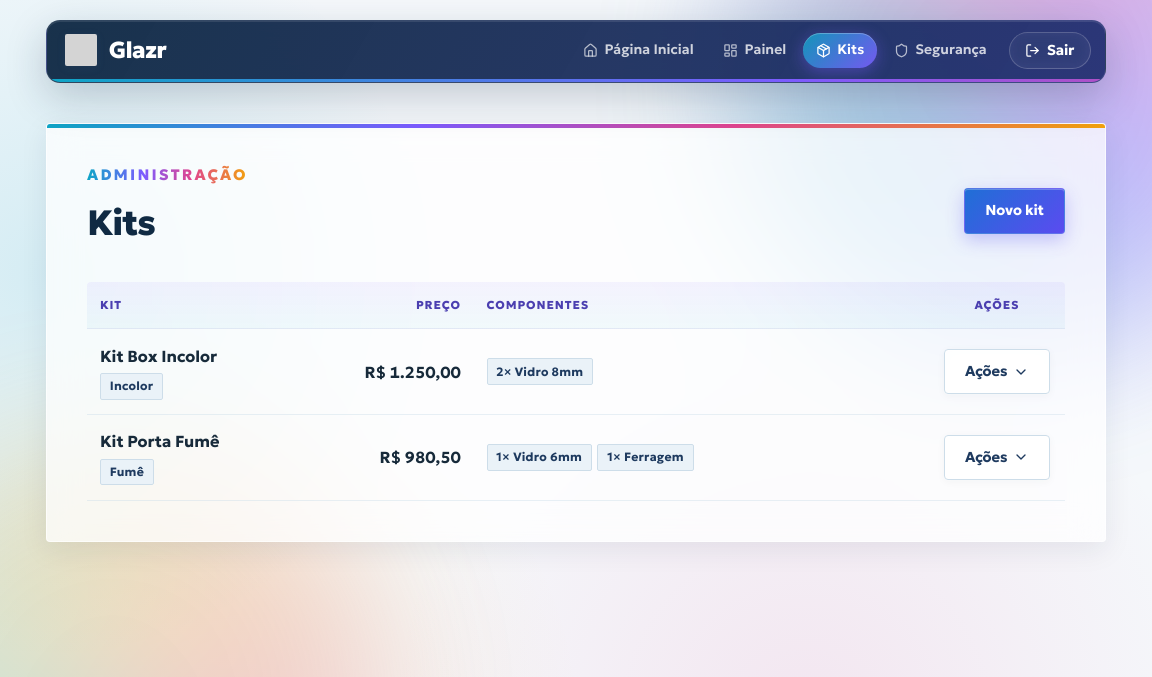
Scenario: edita kit existente carregando os dados e enviando PUT com CSRF
Click the button with aria-label "Ações para Kit Porta Fumê".
click(997, 457)  # box [944,434,1050,480]
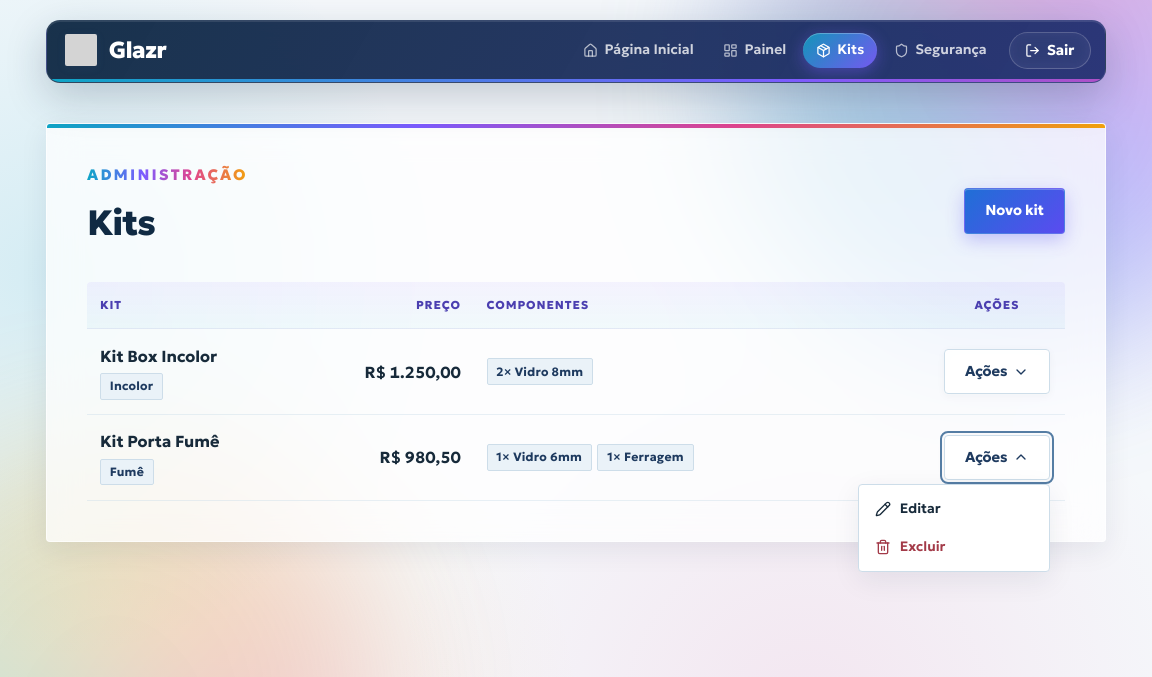
Click the menu item "Editar".
click(954, 509)  # box [864,490,1044,528]
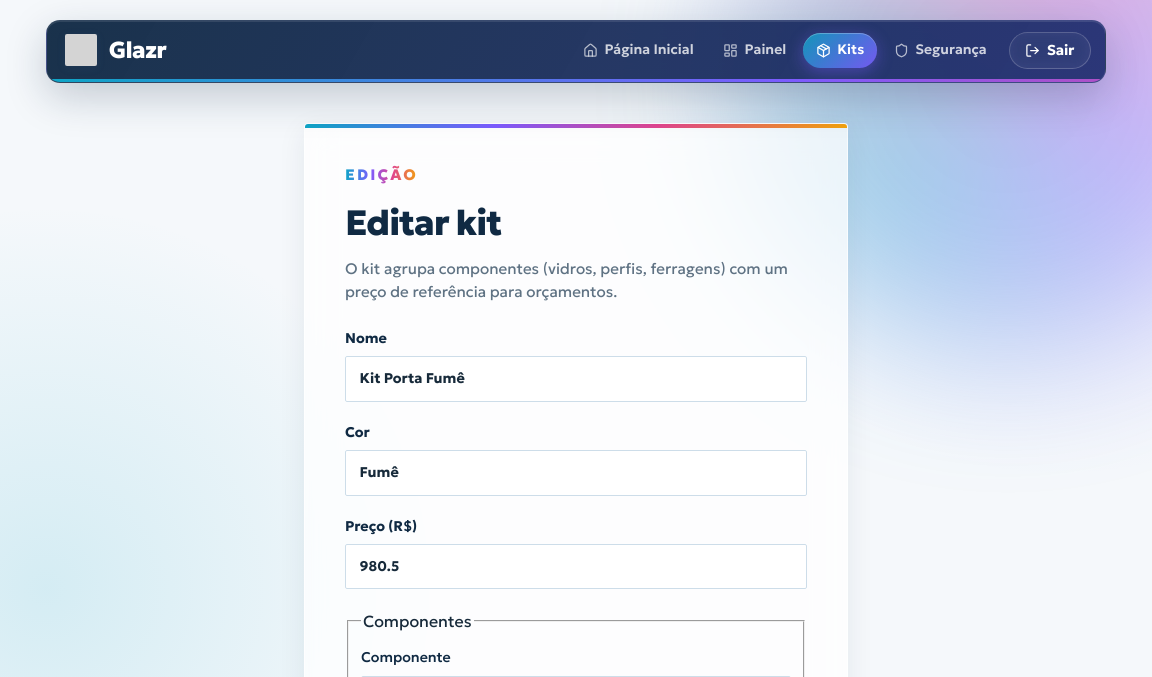
expect the field labelled "Nome" holds "Kit Porta Fumê": met, box [345,356,807,402]
expect the number of fields labelled "Componente" is 2: met
Replace the text in the number field labelled "Preço (R$)" with "1020" at coordinates (576, 567), box [345,544,807,589]
(page scrolled)
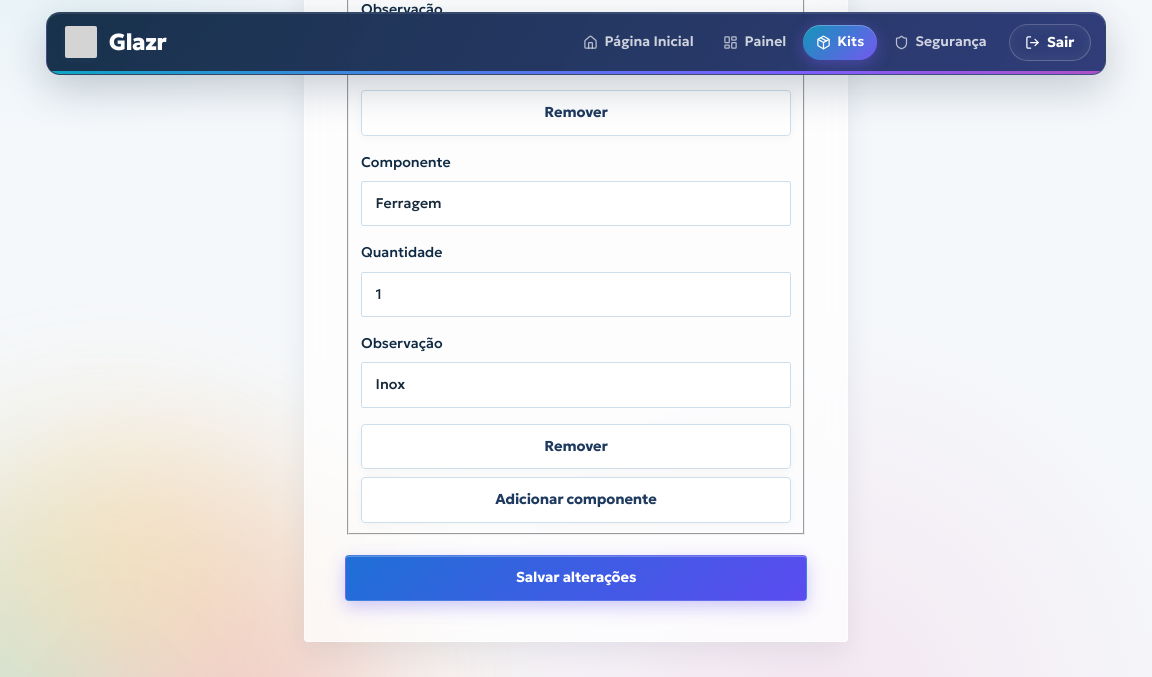
Click the button "Salvar alterações".
click(576, 578)  # box [345,555,807,601]
(page scrolled)
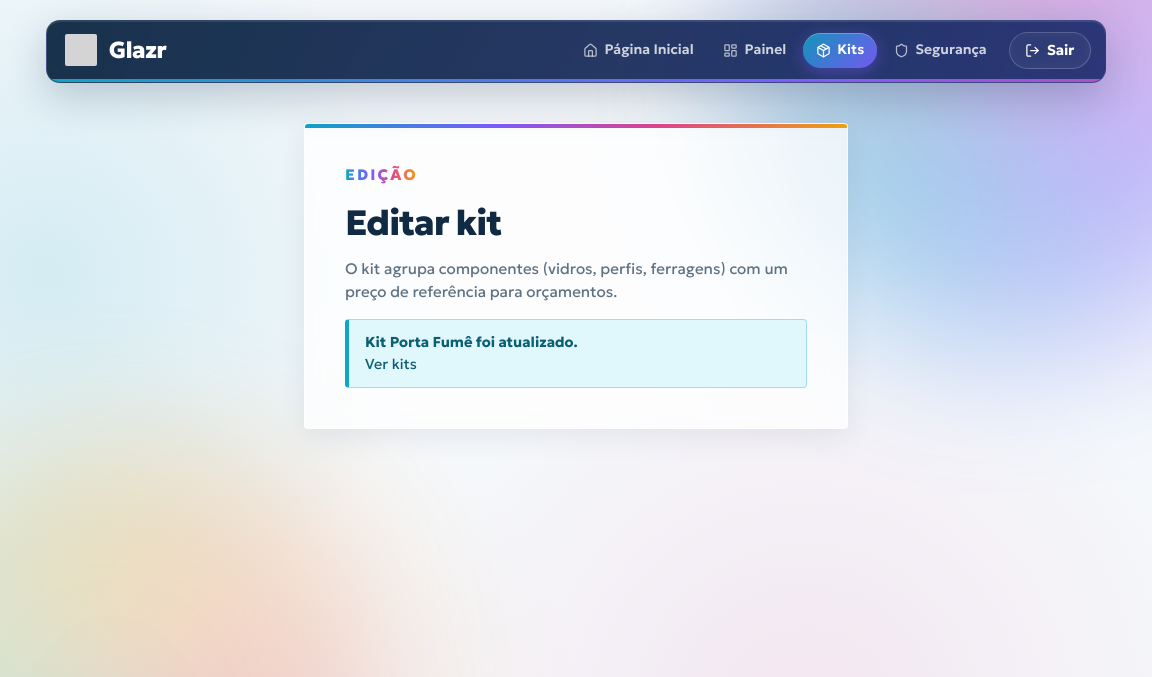
expect the text "Kit Porta Fumê foi atualizado." is shown: met, box [365,333,578,351]
